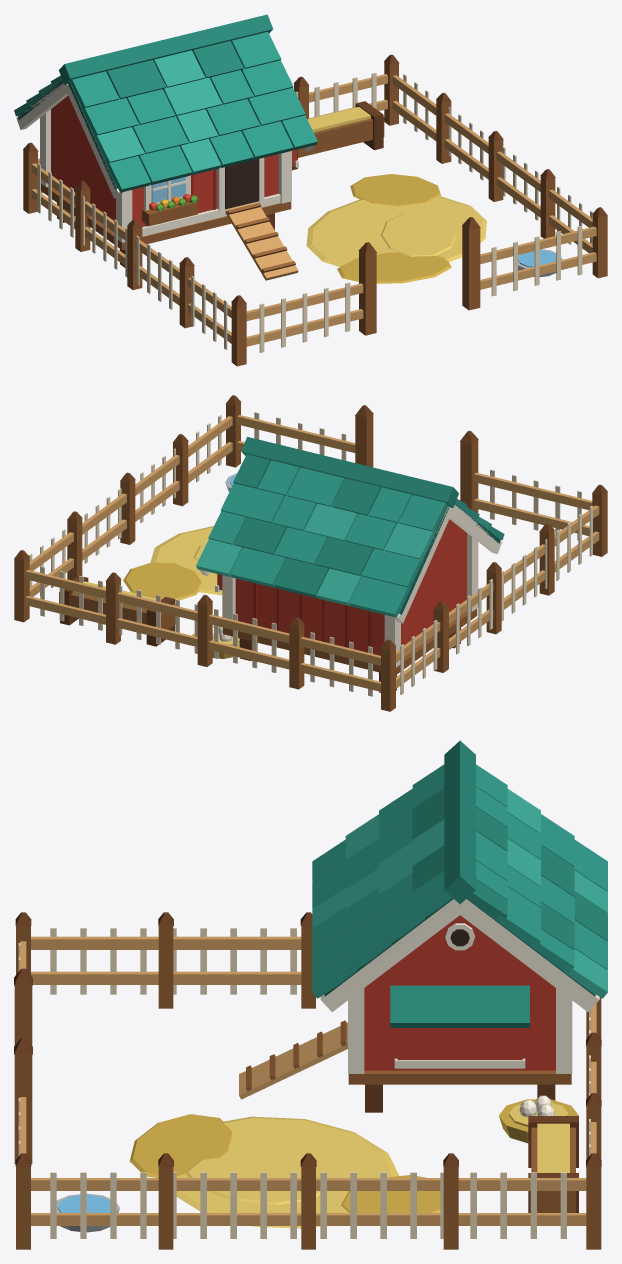
File: coop.glb
The picture shows the model from 3 angles, top to bottom: view 1: azimuth 30°, elevation 25°; view 2: azimuth 150°, elevation 25°; view 3: azimuth 270°, elevation 25°; orthographic projection. The views are drawn at different scales.
Parts seen in each view (by area): view 1: Coop_Fence, Coop_Roof, Coop_Props, Coop_Trim, Coop_House; view 2: Coop_Fence, Coop_Roof, Coop_House, Coop_Props, Coop_Trim; view 3: Coop_Roof, Coop_Fence, Coop_Props, Coop_Trim, Coop_House.
Part boxes in pixels (x1,y1,x2,y2): Coop_Fence: (23,54,607,366); Coop_Roof: (14,14,317,198); Coop_Props: (292,101,562,283); Coop_Trim: (40,109,298,280); Coop_House: (41,96,291,267); Coop_Fence: (14,395,607,711); Coop_Roof: (196,436,504,623); Coop_House: (223,519,477,692); Coop_Props: (59,473,239,658); Coop_Trim: (215,533,478,667); Coop_Roof: (312,740,607,1012); Coop_Fence: (14,912,601,1249); Coop_Props: (56,1095,578,1232); Coop_Trim: (239,923,572,1099); Coop_House: (348,915,571,1112).
Size of the model in its own units: 4.05 by 1.91 by 4.
